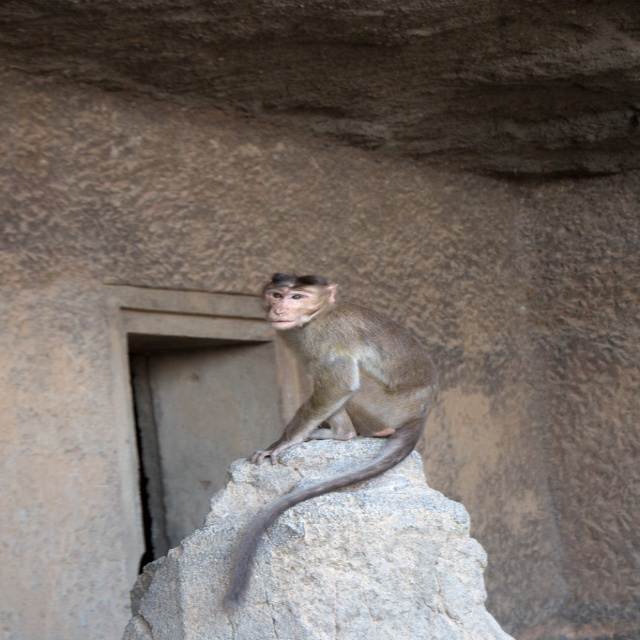Monkey: (187, 278, 451, 588)
